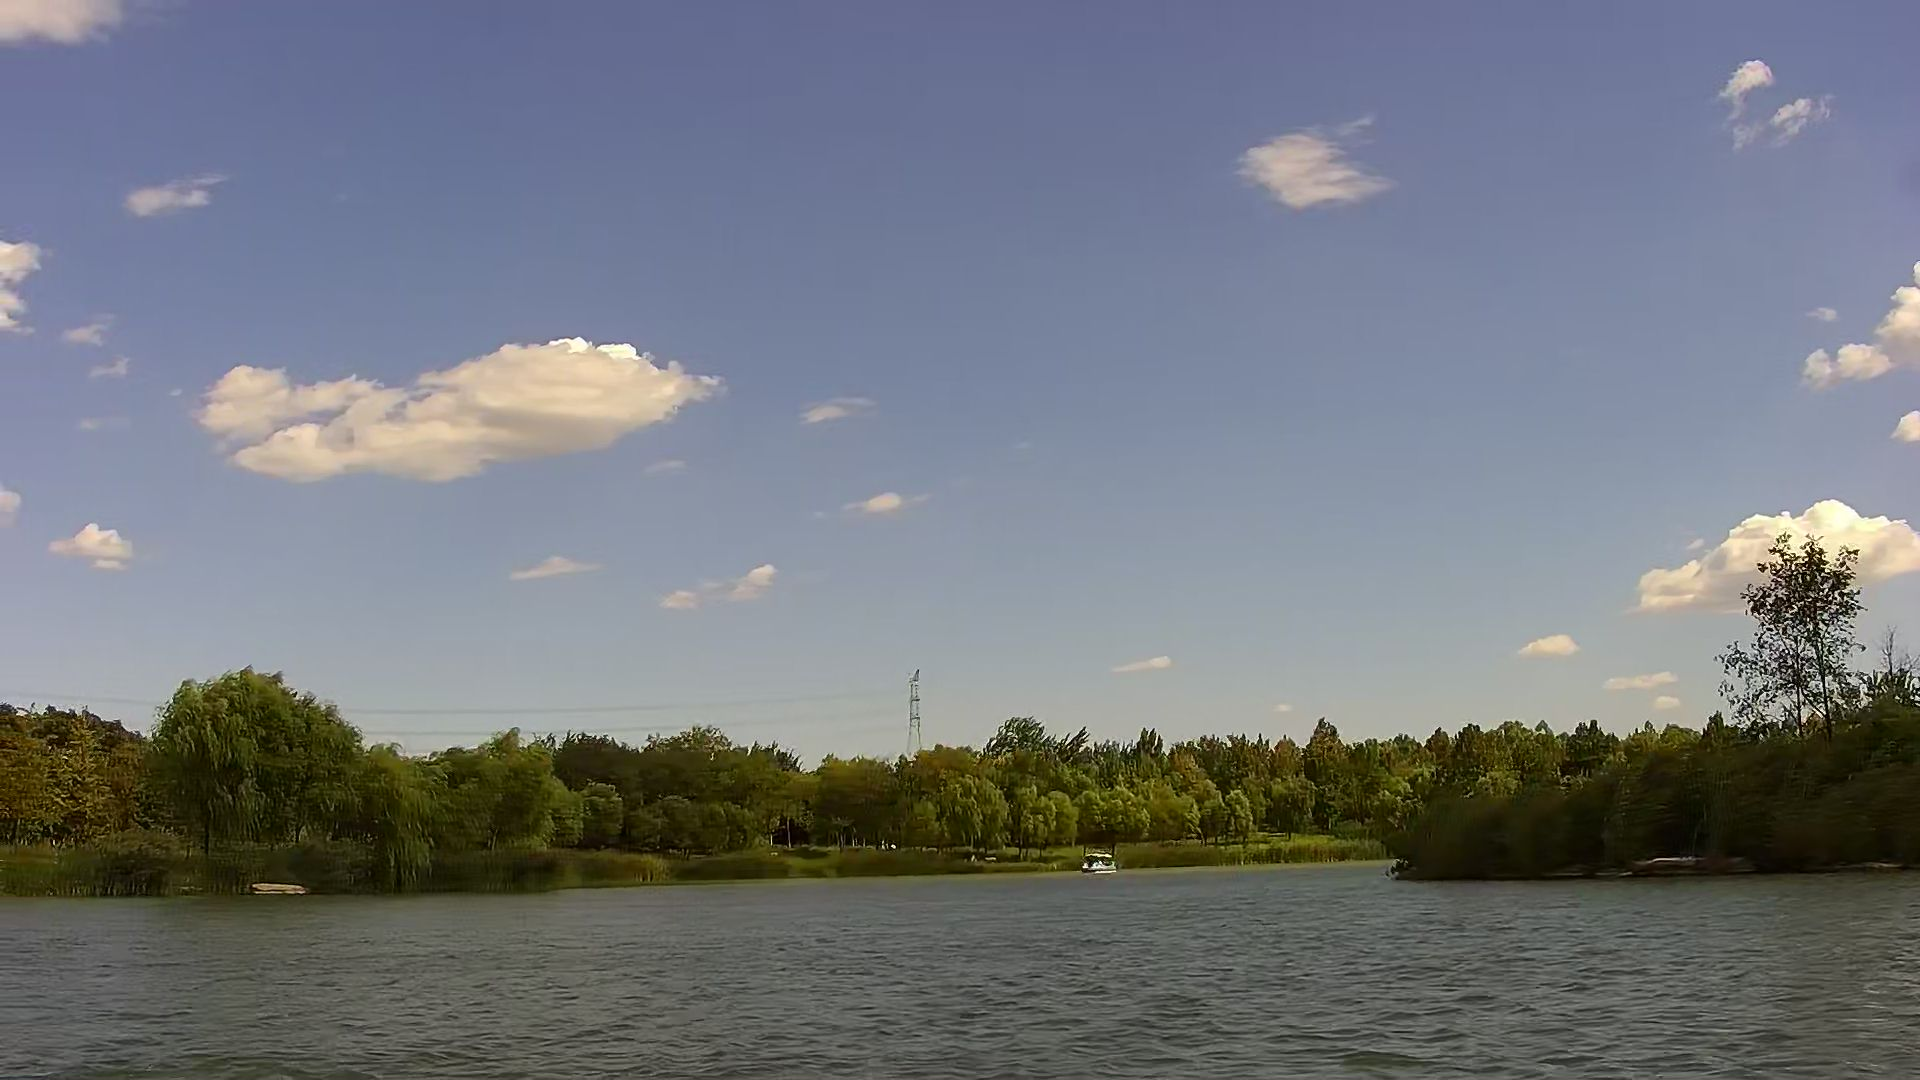boat: (1083, 849, 1121, 880)
rock: (1638, 847, 1735, 873), (255, 884, 301, 897)
